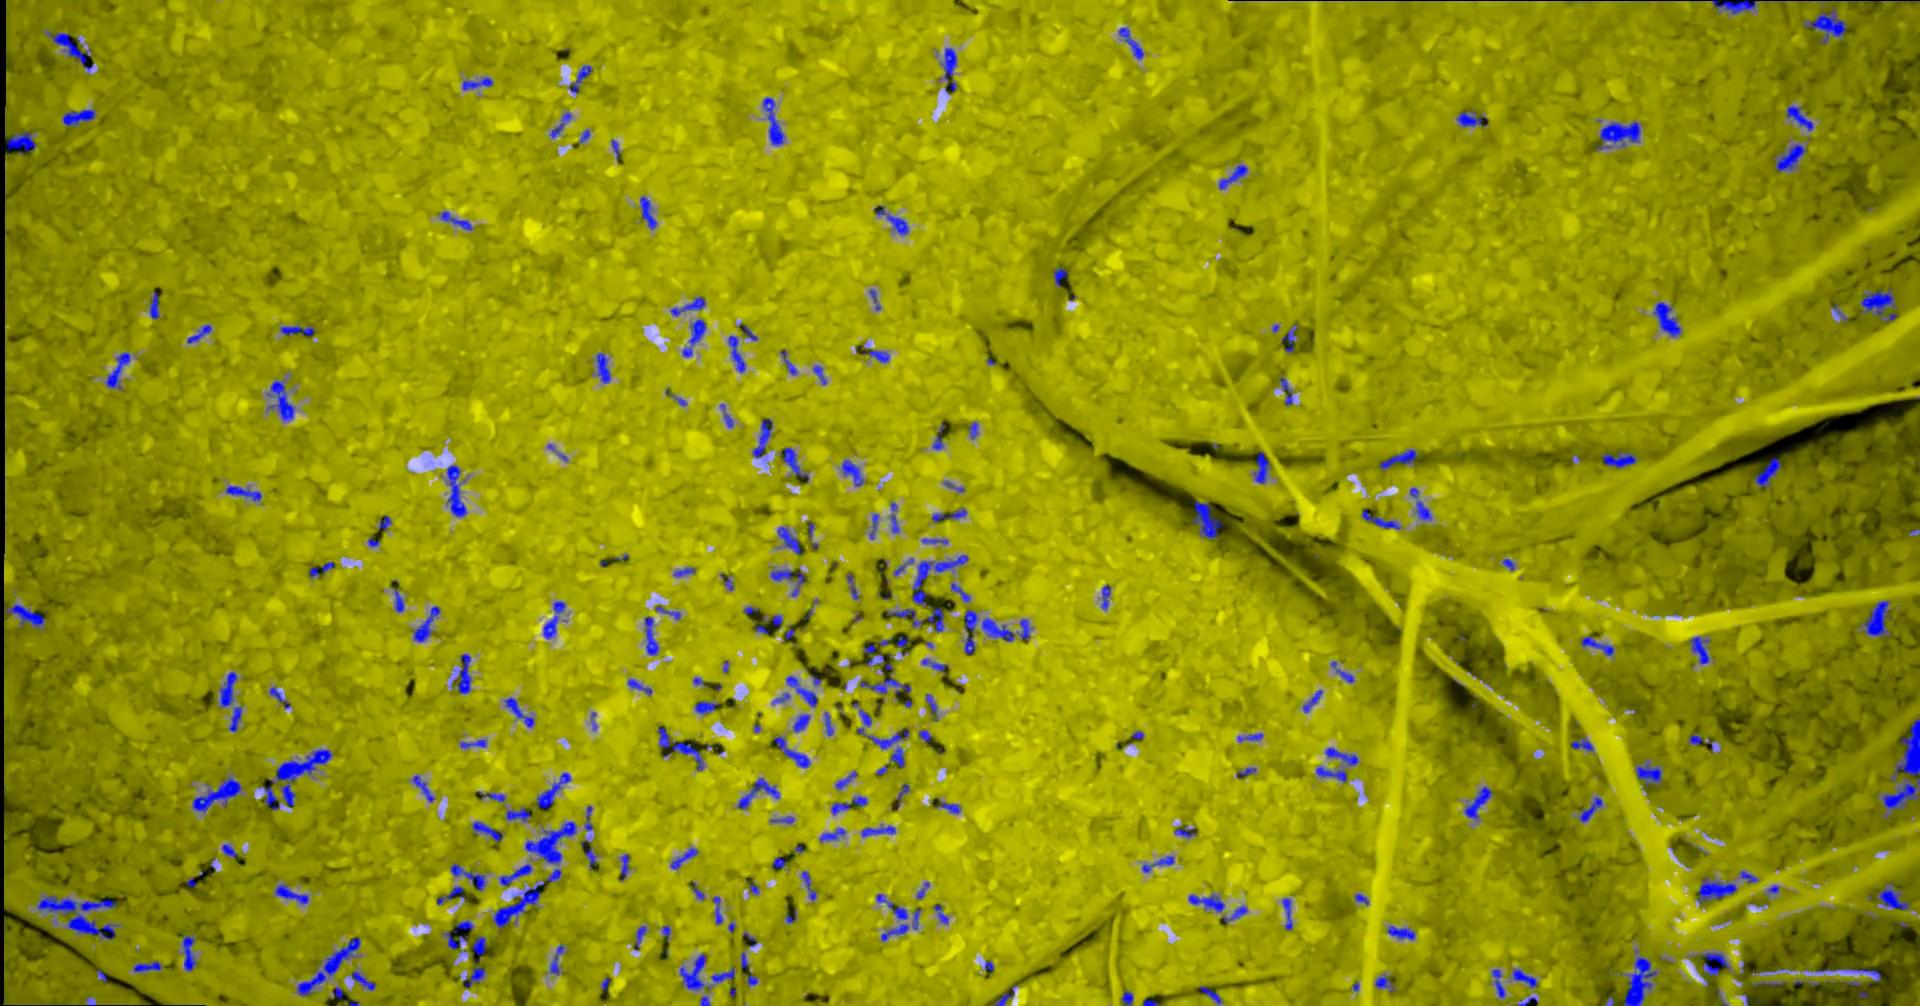ant: (296, 937, 361, 995), (910, 554, 968, 607), (493, 882, 543, 929), (524, 821, 577, 862), (875, 893, 919, 941), (657, 727, 703, 770), (46, 30, 93, 70), (1623, 950, 1656, 1005), (192, 776, 240, 810), (1804, 8, 1845, 43), (1595, 121, 1641, 149), (737, 777, 778, 808), (1860, 287, 1896, 321), (536, 772, 570, 808), (265, 380, 295, 420), (1191, 500, 1222, 539), (982, 617, 1029, 641), (773, 735, 809, 767), (1697, 876, 1736, 904), (679, 953, 709, 989), (446, 464, 466, 516), (762, 97, 783, 145), (872, 205, 908, 234), (1862, 600, 1890, 636), (785, 674, 817, 706), (778, 447, 808, 481), (770, 567, 804, 596), (450, 862, 485, 890), (863, 728, 909, 749), (1810, 967, 1879, 981), (1463, 786, 1492, 819), (413, 606, 439, 641), (858, 677, 910, 695), (1653, 302, 1680, 337), (5, 605, 44, 627), (504, 697, 535, 727), (681, 319, 705, 356), (105, 351, 130, 387), (444, 920, 472, 951), (1876, 883, 1909, 909), (1752, 457, 1782, 486), (542, 601, 565, 638), (1775, 144, 1804, 171), (1117, 27, 1143, 58), (752, 418, 772, 457), (1378, 448, 1417, 469), (863, 643, 891, 671), (1218, 164, 1247, 189), (1699, 951, 1730, 976), (1361, 509, 1399, 528), (452, 653, 470, 694), (1410, 486, 1431, 520), (941, 47, 956, 93), (499, 864, 531, 885), (830, 795, 866, 814), (1785, 105, 1813, 130), (777, 526, 801, 554), (439, 210, 472, 230), (1580, 635, 1613, 655), (728, 335, 745, 372), (885, 608, 922, 626), (218, 671, 236, 708), (274, 884, 309, 903), (470, 821, 502, 841), (568, 65, 590, 93), (841, 459, 863, 486), (963, 608, 977, 654), (6, 131, 36, 152), (670, 296, 703, 315), (411, 775, 434, 801), (462, 959, 485, 986), (1187, 894, 1224, 911), (639, 196, 657, 229), (1324, 747, 1357, 765), (1578, 796, 1603, 821), (1712, 0, 1757, 13), (1636, 762, 1661, 785), (1601, 451, 1636, 467), (1142, 855, 1173, 873), (225, 485, 262, 500), (436, 885, 465, 904), (549, 112, 570, 137), (62, 109, 95, 126), (740, 951, 757, 984), (1689, 636, 1709, 663), (670, 847, 697, 868), (644, 616, 658, 654), (1316, 766, 1347, 782), (931, 508, 966, 522), (182, 935, 196, 970), (1330, 661, 1352, 682), (1302, 688, 1322, 713), (185, 324, 211, 343), (1253, 451, 1269, 483), (1220, 904, 1247, 922), (1457, 111, 1487, 126), (992, 984, 1015, 1005), (1199, 984, 1222, 1005), (350, 970, 375, 989), (801, 871, 817, 901), (596, 352, 610, 384), (549, 942, 563, 974), (269, 686, 290, 708), (1512, 969, 1537, 987), (1281, 324, 1297, 352), (861, 347, 889, 362), (1385, 925, 1415, 939), (780, 349, 796, 373), (927, 607, 943, 631), (1277, 377, 1291, 405), (921, 658, 949, 672), (309, 561, 334, 577), (836, 770, 856, 789), (654, 605, 681, 619), (462, 77, 491, 90), (1491, 968, 1503, 997), (627, 678, 651, 694), (950, 582, 969, 601), (632, 925, 646, 950), (279, 325, 314, 335), (861, 826, 895, 836), (738, 323, 757, 340), (846, 573, 858, 600), (924, 694, 937, 720), (935, 799, 959, 813), (505, 807, 530, 821), (710, 967, 734, 981), (1051, 265, 1067, 287), (889, 746, 904, 767), (819, 827, 844, 840), (1281, 897, 1291, 929), (1570, 737, 1592, 751), (229, 706, 241, 730), (897, 782, 909, 807), (932, 423, 943, 448), (695, 700, 717, 713), (933, 904, 949, 923), (471, 936, 486, 955), (712, 895, 723, 923), (720, 403, 731, 427), (792, 714, 809, 730), (149, 291, 159, 318), (890, 502, 899, 532), (479, 791, 505, 801), (618, 854, 629, 880), (1375, 976, 1393, 991), (811, 365, 825, 384), (584, 846, 596, 869), (458, 739, 486, 748), (1175, 826, 1196, 837), (858, 708, 871, 727), (1237, 732, 1263, 741), (133, 962, 160, 970), (221, 843, 237, 857), (869, 513, 877, 539), (1738, 870, 1757, 882), (824, 711, 833, 735), (545, 868, 560, 882), (1101, 586, 1110, 608), (394, 589, 403, 612), (968, 420, 978, 439), (673, 567, 695, 575), (584, 805, 592, 829), (378, 514, 391, 528), (770, 815, 792, 823), (771, 856, 786, 868), (1121, 989, 1133, 1005), (918, 729, 931, 742), (1688, 733, 1702, 744), (921, 539, 947, 542)
